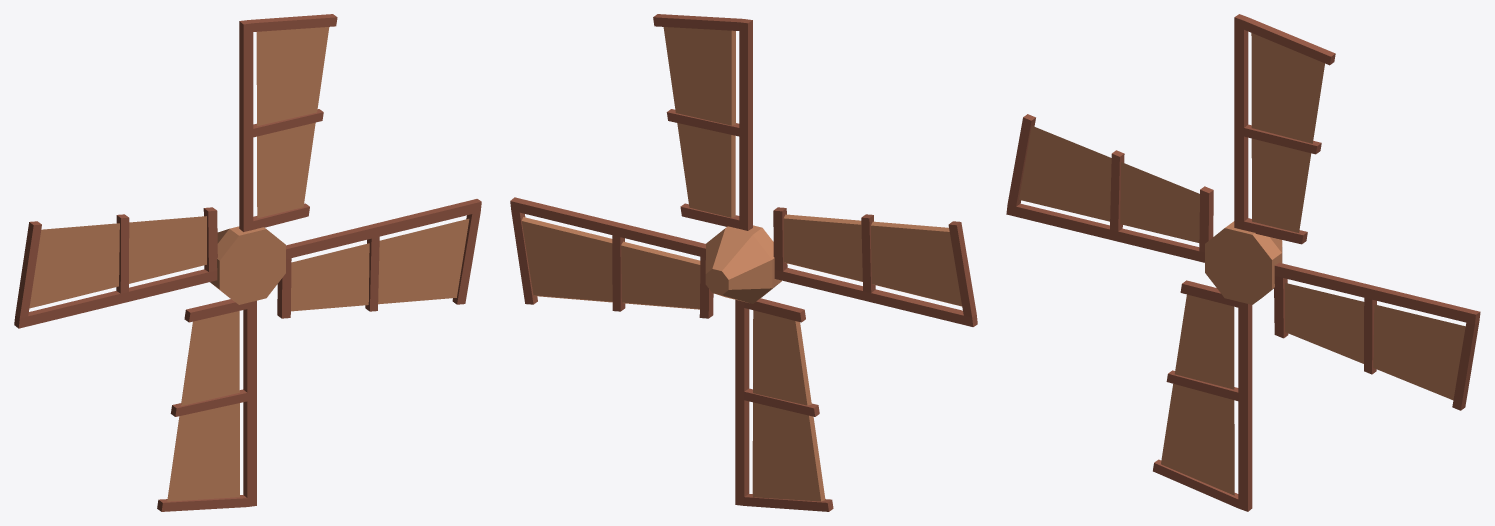
File: mill_blades.glb
3 renders of one model, left to right at view 1: azimuth 30°, elevation 25°; view 2: azimuth 150°, elevation 25°; view 3: azimuth 330°, elevation 25°, orthographic.
Parts seen in each view (by area): view 1: mill_blades_Cylinder.757; view 2: mill_blades_Cylinder.757; view 3: mill_blades_Cylinder.757.
Boxes of the visible parts, <box> form: mill_blades_Cylinder.757: <box>14,14,481,511</box>; mill_blades_Cylinder.757: <box>510,14,977,511</box>; mill_blades_Cylinder.757: <box>1006,14,1480,511</box>.
Size of the model in its own units: 1.38 by 1.38 by 0.1632.
